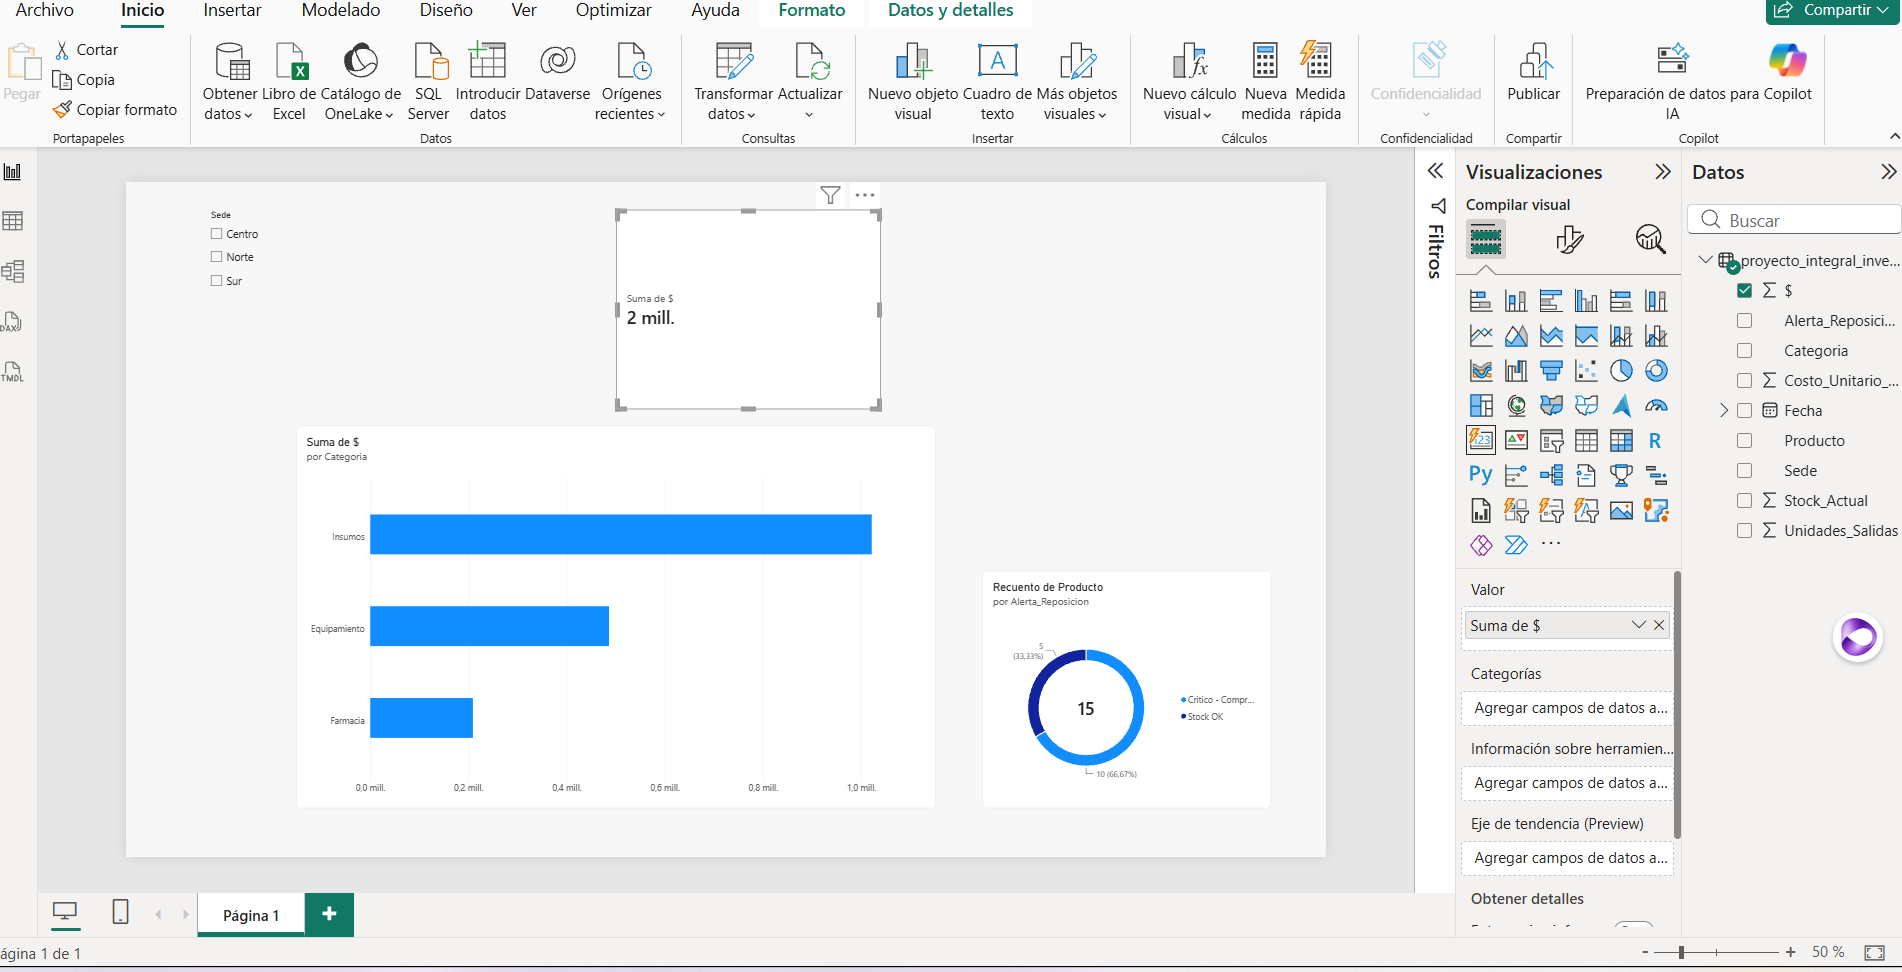

The dashboard page shown, as its layout file describes it:
{"tool":"powerbi","page":{"name":"Página 1","canvas":[1920,1080],"ordinal":0},"visuals":[{"type":"cardVisual","fields":{"Data":["Sum(proyecto_integral_inventario.$)"]},"box":[784,44,424,320],"z":0},{"type":"barChart","fields":{"Category":["proyecto_integral_inventario.Categoria"],"Y":["Sum(proyecto_integral_inventario.$)"]},"box":[272,390,1024,612],"z":1},{"type":"donutChart","fields":{"Category":["proyecto_integral_inventario.Alerta_Reposicion","proyecto_integral_inventario.Producto"],"Y":["CountNonNull(proyecto_integral_inventario.Producto)"]},"box":[1370,622,462,380],"z":2},{"type":"slicer","fields":{"Values":["proyecto_integral_inventario.Sede"]},"box":[128,44,426,306],"z":3}]}

Visuals, with their boxes on the page's 1920x1080 design canvas (x1, y1, x2, y2). These are canvas units, not pixel positions in the 1902x972 screenshot, which may show the page scaled, cropped or inside an application window:
cardVisual - Sum(proyecto_integral_inventario.$): crop(784, 44, 1208, 364)
barChart - proyecto_integral_inventario.Categoria x Sum(proyecto_integral_inventario.$): crop(272, 390, 1296, 1002)
donutChart - proyecto_integral_inventario.Alerta_Reposicion x proyecto_integral_inventario.Producto: crop(1370, 622, 1832, 1002)
slicer - proyecto_integral_inventario.Sede: crop(128, 44, 554, 350)
